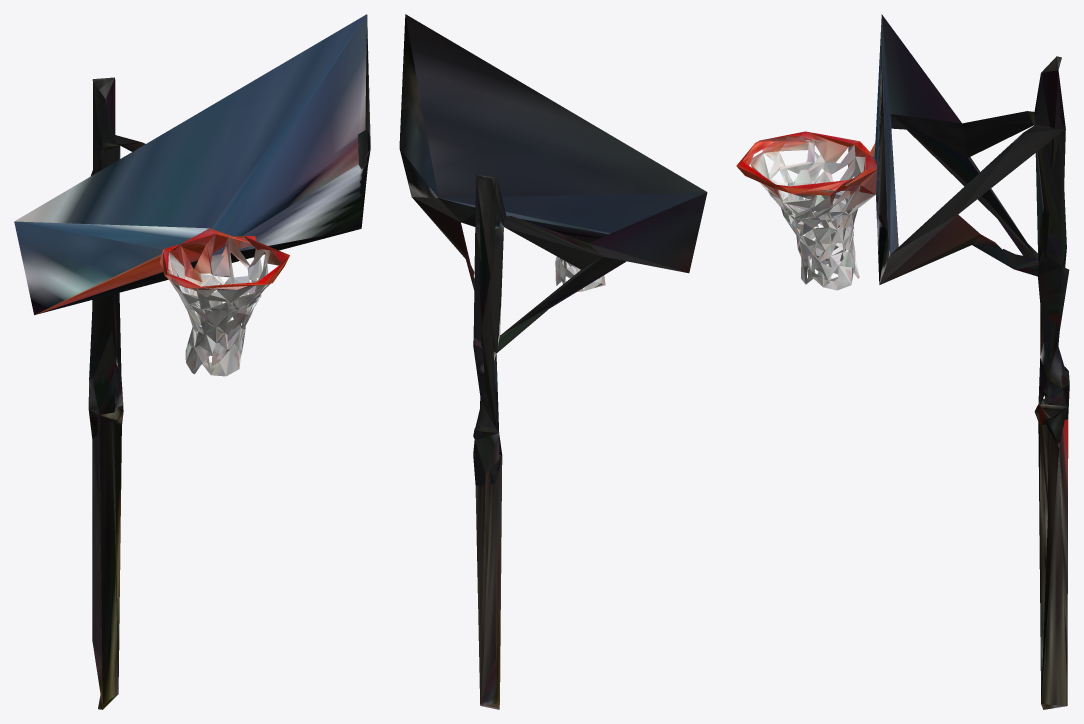
File: basketball_hoop_low.glb
The picture shows the model from 3 angles, left to right: view 1: azimuth 30°, elevation 25°; view 2: azimuth 150°, elevation 25°; view 3: azimuth 270°, elevation 25°; orthographic projection. The views are drawn at different scales.
Visible parts, largest first — view 1: m; view 2: m; view 3: m.
Boxes of the visible parts, left/top/right/bottom form: m: left=14, top=14, right=370, bottom=709; m: left=399, top=14, right=707, bottom=709; m: left=736, top=14, right=1069, bottom=709.
Bounding box in the file's own units: 2.08 × 3.95 × 1.62.
Materials: 1 (1 with a texture image).
